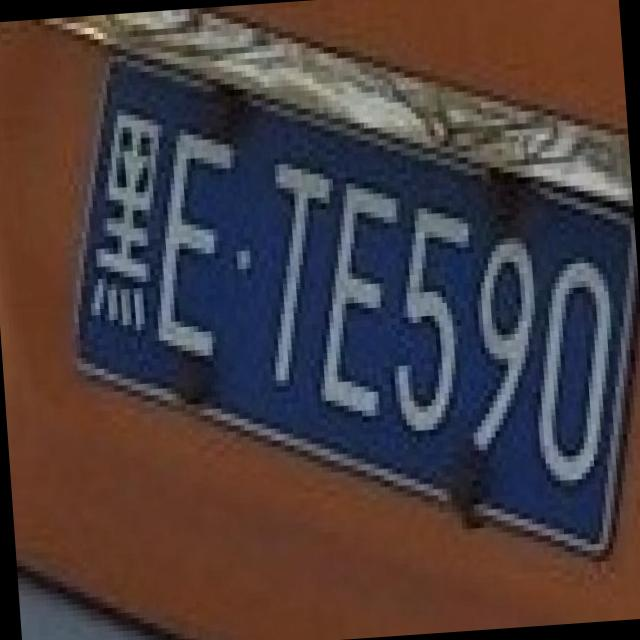0: (508, 236, 630, 483)
5: (364, 180, 491, 432)
9: (440, 212, 553, 452)
E: (116, 101, 261, 366), (287, 156, 419, 426)
T: (228, 130, 346, 388)
